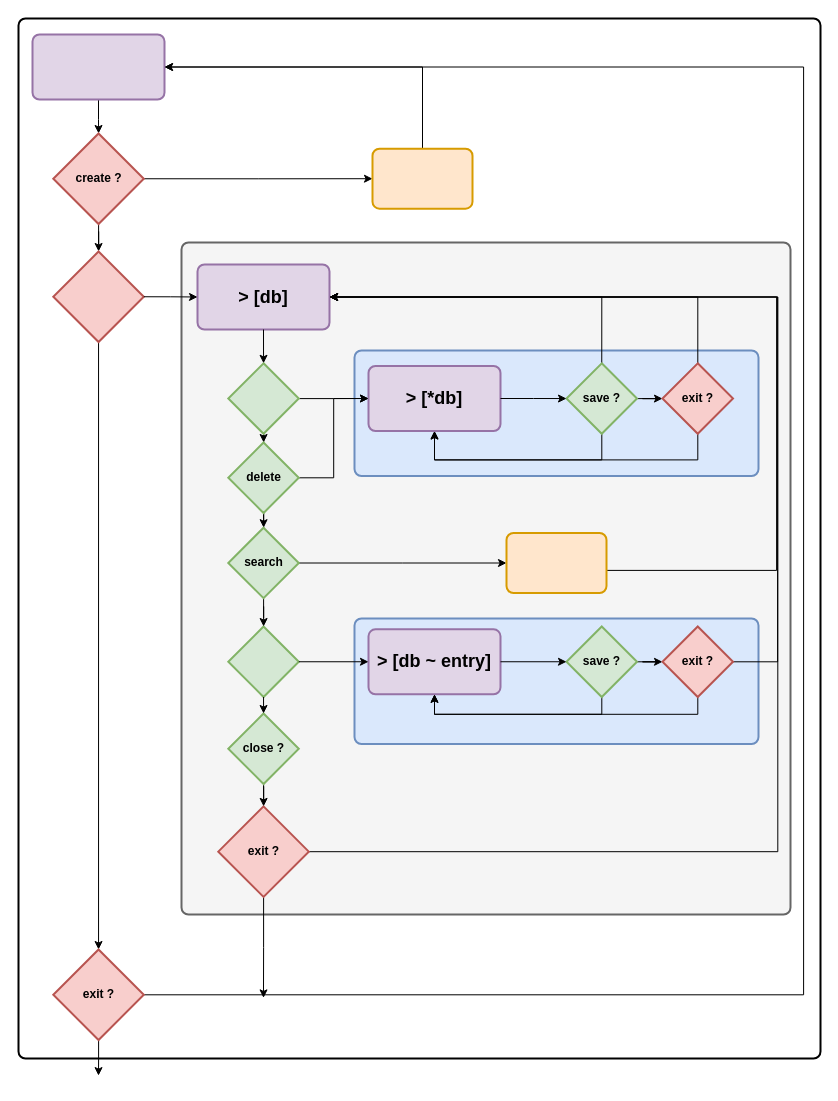
Some shapes in this 838 by 1101 pixel diagram are drawn without their labels. Each missing label, with the centre of its shape:
> waiting for input: the point at 98,66
create db: the point at 422,178
edit: the point at 263,661
new: the point at 263,398
open ?: the point at 98,296
print entry: the point at 556,563
